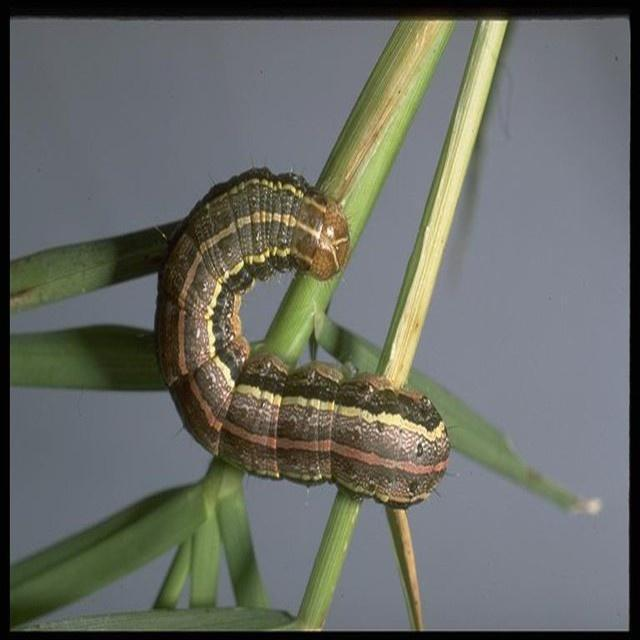gusano_cogollero: (163, 170, 460, 502)
